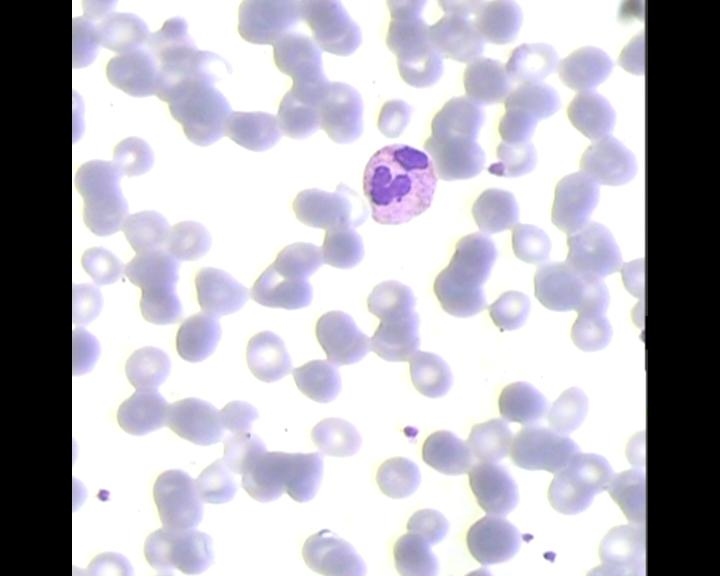neut: (357, 138, 439, 229)
